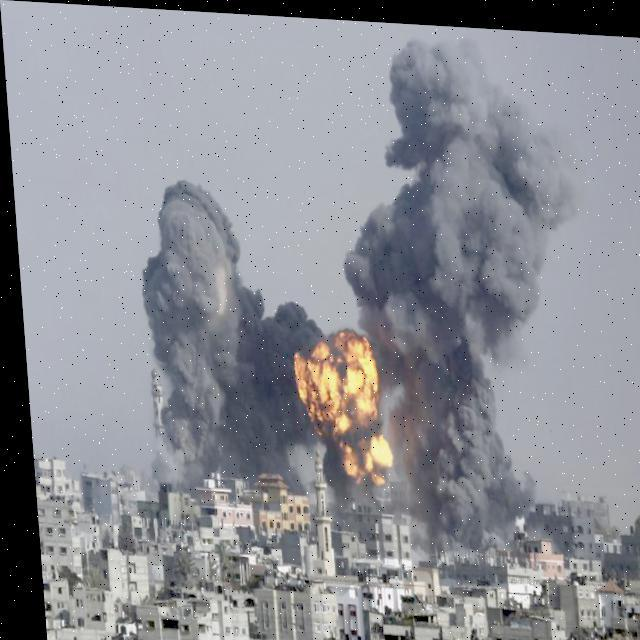Fire: (280, 318, 392, 492)
